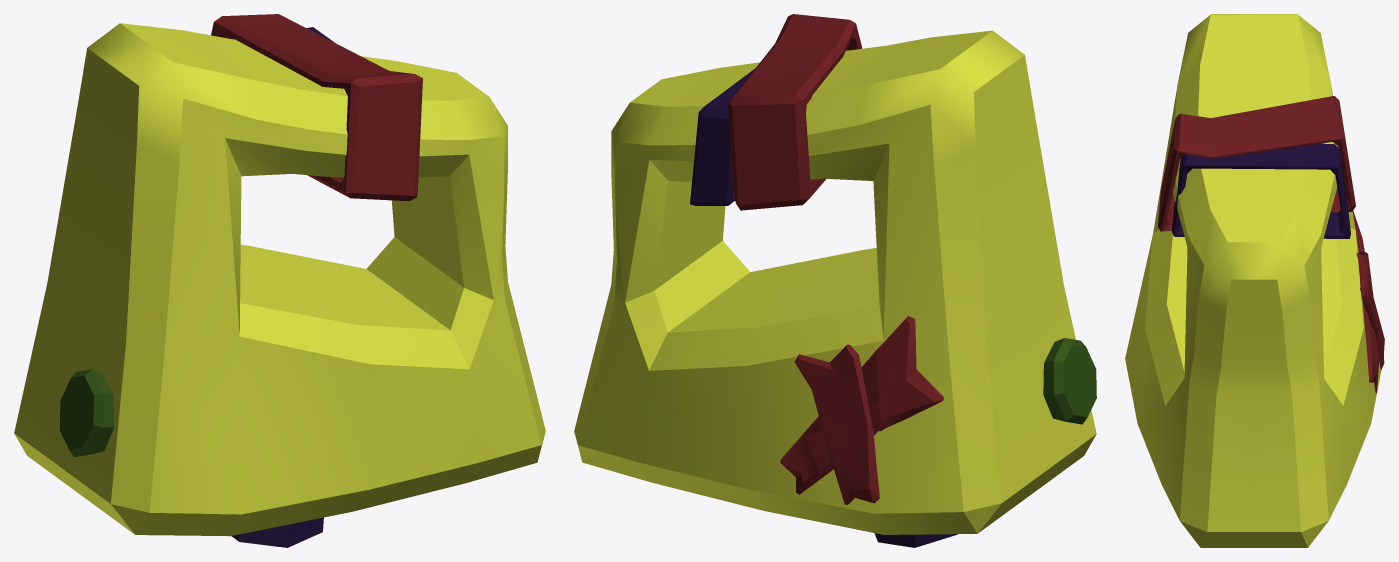
The model's file is SM_Mixer_01.fbx.
3 views of the same model, side by side, from view 1: azimuth 30°, elevation 25°; view 2: azimuth 150°, elevation 25°; view 3: azimuth 270°, elevation 25° (orthographic). The views are drawn at different scales.
Visible parts, largest first — view 1: SM_Mixer_01; view 2: SM_Mixer_01; view 3: SM_Mixer_01.
Part boxes in pixels (bbox=[...]): SM_Mixer_01: bbox=[14, 14, 545, 547]; SM_Mixer_01: bbox=[574, 14, 1096, 547]; SM_Mixer_01: bbox=[1125, 14, 1384, 547].
Size of the model in its own units: 0.6873 by 0.6739 by 0.4048.
